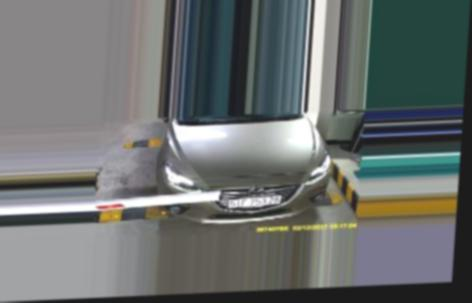License_Plate: (226, 194, 281, 208)
